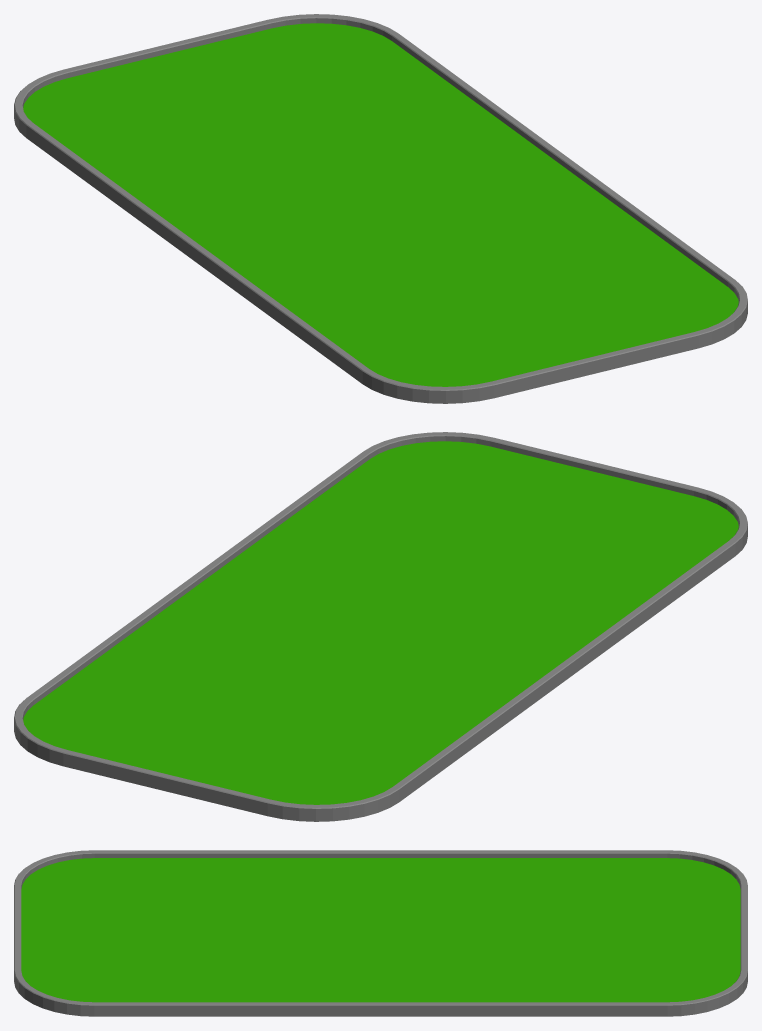
Rendered from place_3.fbx.
The picture shows the model from 3 angles, top to bottom: view 1: azimuth 30°, elevation 25°; view 2: azimuth 150°, elevation 25°; view 3: azimuth 270°, elevation 25°; orthographic projection. The views are drawn at different scales.
Parts seen in each view (by area): view 1: place_3; view 2: place_3; view 3: place_3.
Boxes of the visible parts, box(x1,y1,x2,y2) form: place_3: box(14, 14, 747, 403); place_3: box(14, 432, 747, 821); place_3: box(14, 850, 747, 1016).
Size of the model in its own units: 1000 by 35 by 2000.
